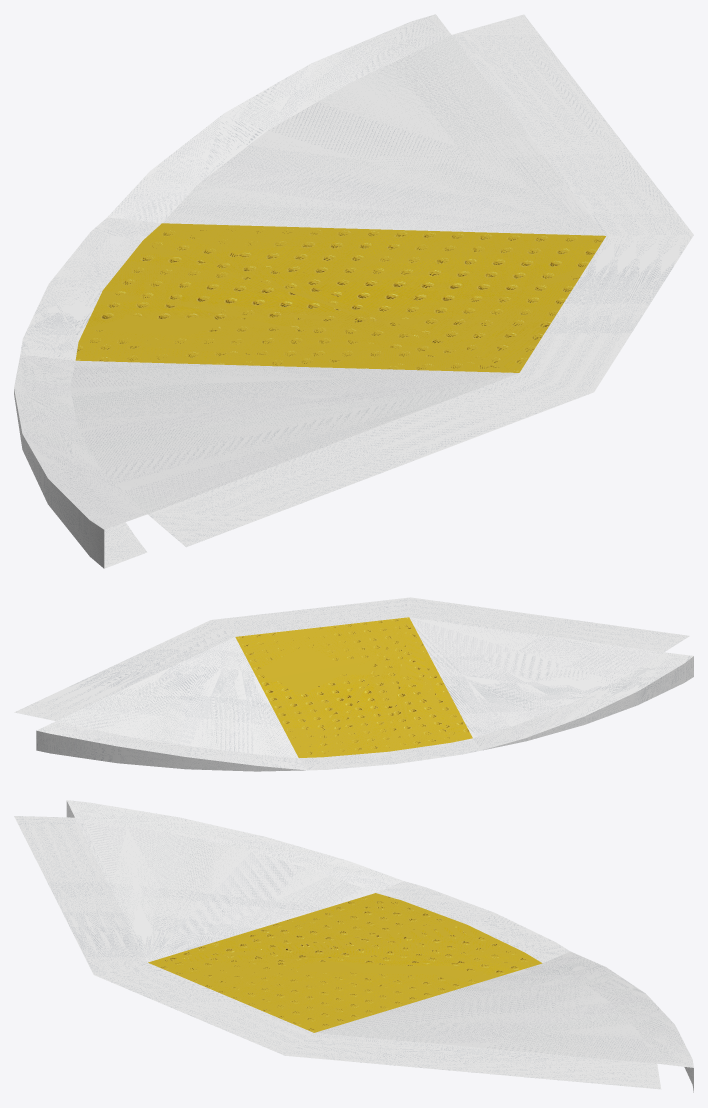
Rendered from Curb_Cut.glb.
3 renders of one model, top to bottom at view 1: azimuth 30°, elevation 25°; view 2: azimuth 150°, elevation 25°; view 3: azimuth 270°, elevation 25°, orthographic. The views are drawn at different scales.
Parts seen in each view (by area): view 1: SketchUp, Detectable Warning Map; view 2: SketchUp, Detectable Warning Map; view 3: SketchUp, Detectable Warning Map.
Boxes of the visible parts, <box> form: SketchUp: <box>14,14,693,568</box>; Detectable Warning Map: <box>75,223,605,372</box>; SketchUp: <box>14,597,693,771</box>; Detectable Warning Map: <box>235,617,472,757</box>; SketchUp: <box>14,800,693,1092</box>; Detectable Warning Map: <box>148,893,542,1032</box>.
Bounding box in the file's own units: 3.54 × 0.1563 × 3.52.
3 materials, 1 textured.
